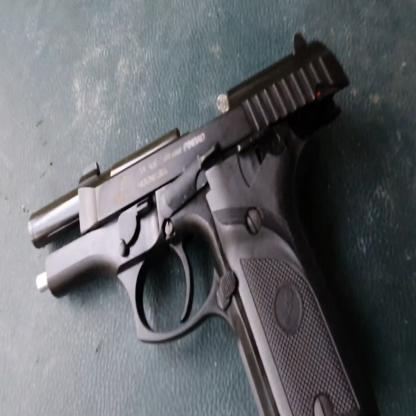handgun: (24, 30, 370, 416)
